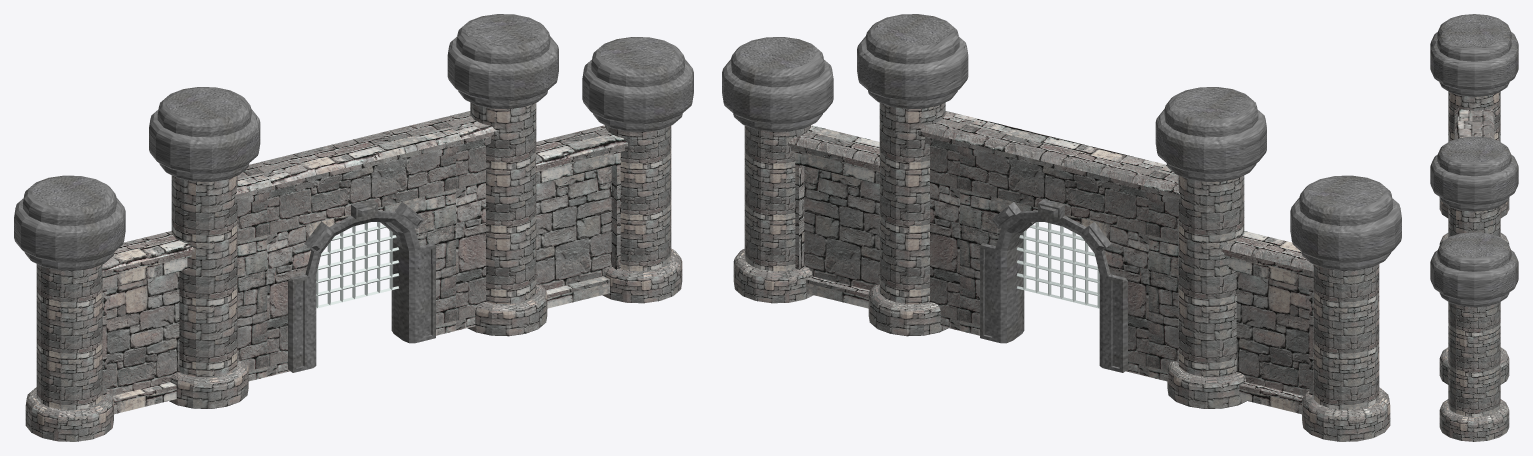
File: Castle Door1.fbx
The picture shows the model from 3 angles, left to right: view 1: azimuth 30°, elevation 25°; view 2: azimuth 150°, elevation 25°; view 3: azimuth 270°, elevation 25°; orthographic projection. The views are drawn at different scales.
Visible parts, largest first — view 1: Cube, Cylinder.001, Cylinder, Cube.001, Plane; view 2: Cube, Cylinder.001, Cylinder, Cube.001, Plane; view 3: Cylinder, Cylinder.001, Cube.
Boxes of the visible parts, left/top/right/bottom form: Cube: left=102, top=111, right=627, bottom=414; Cylinder.001: left=149, top=14, right=558, bottom=408; Cylinder: left=14, top=37, right=693, bottom=441; Cube.001: left=288, top=199, right=435, bottom=372; Plane: left=316, top=222, right=398, bottom=308; Cube: left=788, top=111, right=1313, bottom=414; Cylinder.001: left=857, top=14, right=1266, bottom=408; Cylinder: left=722, top=37, right=1401, bottom=441; Cube.001: left=980, top=199, right=1127, bottom=372; Plane: left=1017, top=222, right=1099, bottom=308; Cylinder: left=1430, top=14, right=1518, bottom=441; Cylinder.001: left=1430, top=22, right=1518, bottom=384; Cube: left=1454, top=108, right=1494, bottom=139.
Bounding box in the file's own units: 4972 × 2047 × 727.
3 materials, 2 textured.
